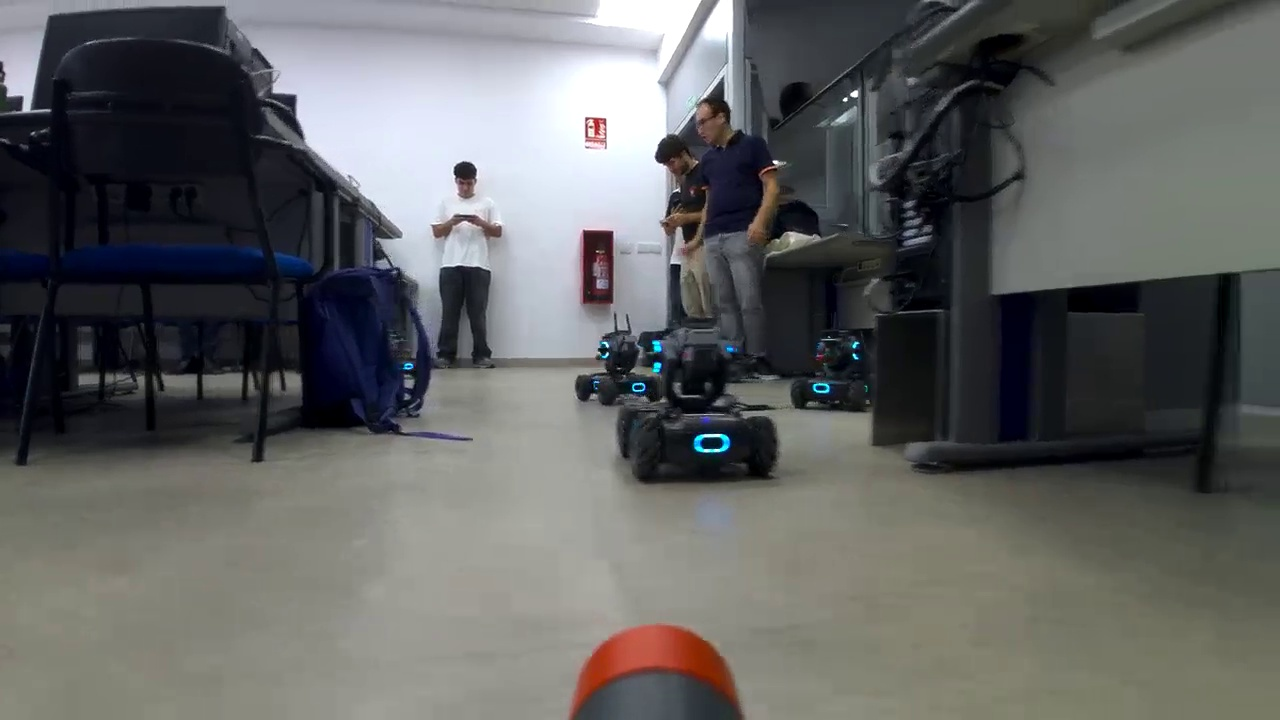robot: (614, 320, 785, 484), (570, 326, 671, 410), (790, 322, 877, 419), (399, 350, 422, 377)
